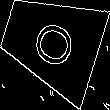O_W: (25, 14, 78, 71)
